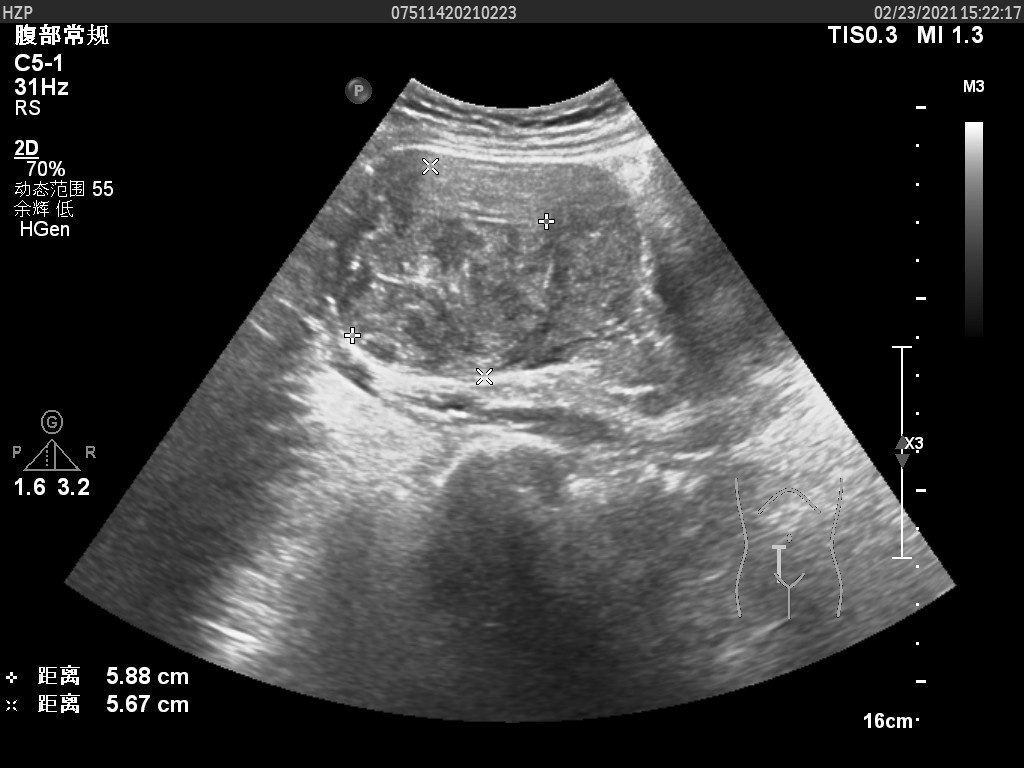肌瘤: (350, 165, 545, 373)
